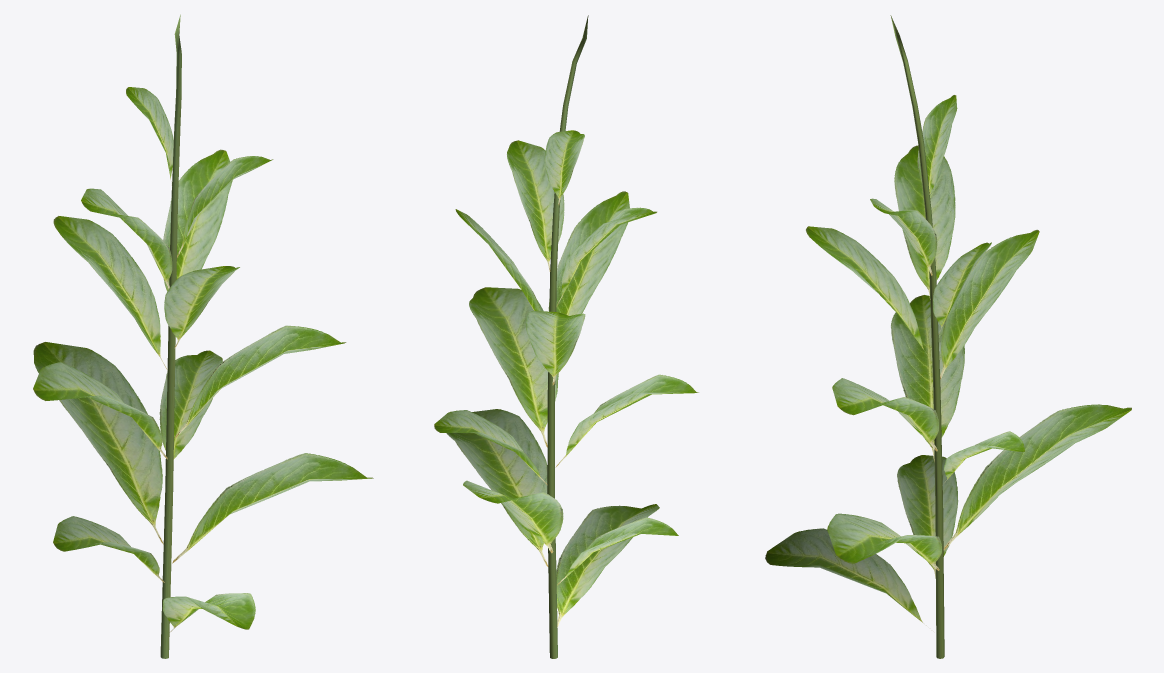
The model's file is SM_Plant_15.fbx.
3 renders of one model, left to right at view 1: azimuth 30°, elevation 25°; view 2: azimuth 150°, elevation 25°; view 3: azimuth 270°, elevation 25°, orthographic. The views are drawn at different scales.
Visible parts, largest first — view 1: SM_Plant_15; view 2: SM_Plant_15; view 3: SM_Plant_15.
Part boxes in pixels (x1,y1,x2,y2): SM_Plant_15: (33, 14, 373, 658); SM_Plant_15: (434, 15, 698, 658); SM_Plant_15: (765, 15, 1131, 658).
Bounding box in the file's own units: 42.49 × 46.07 × 80.52.
Materials: 2 (2 with a texture image).
